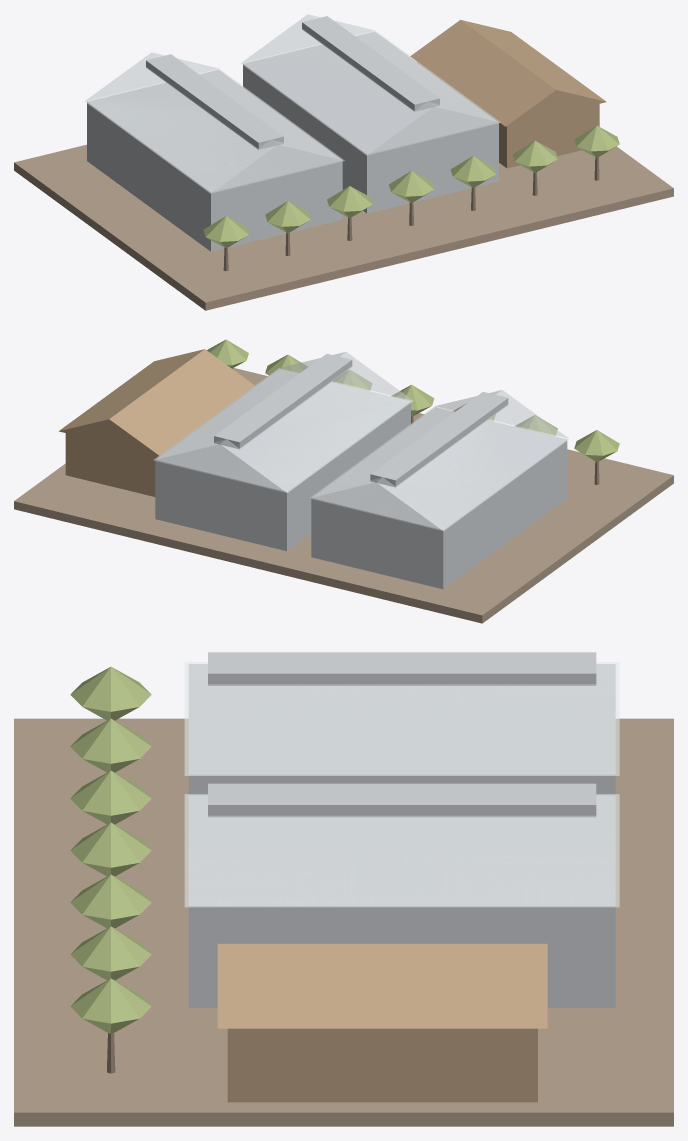
The model's file is lm_50_trai_mat_xuan_tho_persimmon_drying_house_and_orchard.glb.
3 renders of one model, top to bottom at view 1: azimuth 30°, elevation 25°; view 2: azimuth 150°, elevation 25°; view 3: azimuth 270°, elevation 25°, orthographic. The views are drawn at different scales.
Parts seen in each view (by area): view 1: lm_50_trai_mat_xuan_tho_persimmon_drying_house_and_orchard; view 2: lm_50_trai_mat_xuan_tho_persimmon_drying_house_and_orchard; view 3: lm_50_trai_mat_xuan_tho_persimmon_drying_house_and_orchard.
Part boxes in pixels (bbox=[...]): lm_50_trai_mat_xuan_tho_persimmon_drying_house_and_orchard: bbox=[14, 14, 673, 310]; lm_50_trai_mat_xuan_tho_persimmon_drying_house_and_orchard: bbox=[14, 339, 673, 623]; lm_50_trai_mat_xuan_tho_persimmon_drying_house_and_orchard: bbox=[14, 652, 673, 1126].
Size of the model in its own units: 48 by 9.8 by 34.
